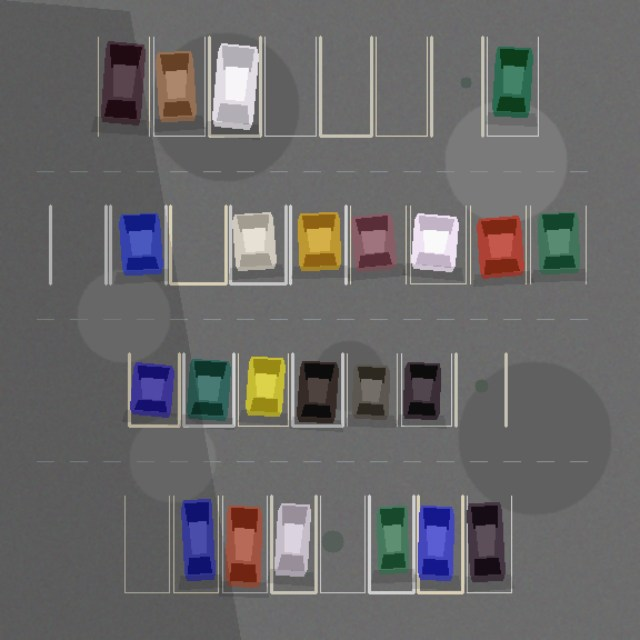space-empty: (264, 37, 316, 136), (320, 37, 371, 136), (376, 37, 427, 136), (431, 37, 482, 136), (124, 496, 169, 592), (50, 206, 106, 283), (170, 206, 226, 283), (320, 496, 364, 592), (456, 353, 506, 426)
space-occupied: (98, 37, 149, 136), (153, 37, 204, 136), (209, 37, 260, 136), (487, 37, 538, 136), (173, 496, 218, 592), (222, 496, 267, 592), (271, 496, 316, 592), (110, 206, 166, 283), (230, 206, 286, 283), (290, 206, 346, 283), (350, 206, 406, 283), (410, 206, 466, 283), (470, 206, 526, 283), (530, 206, 586, 283), (369, 496, 413, 592), (418, 496, 462, 592), (467, 496, 511, 592), (129, 353, 179, 426), (183, 353, 233, 426), (238, 353, 288, 426), (292, 353, 342, 426), (347, 353, 397, 426), (401, 353, 451, 426)
